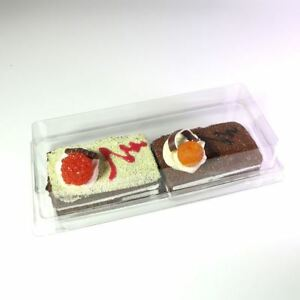PlasticBox: (28, 79, 296, 237)
